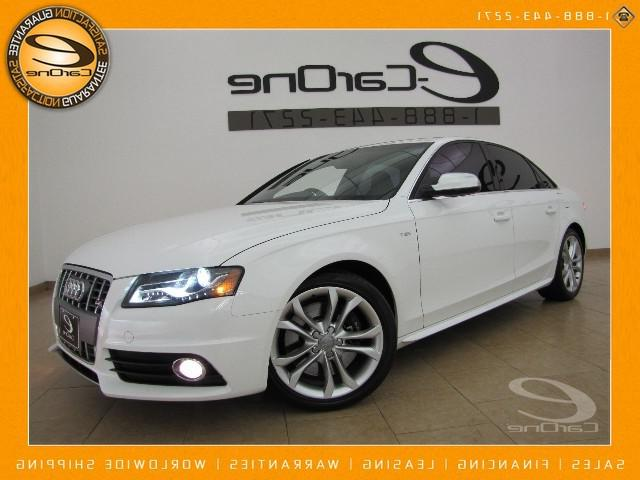Car: (37, 113, 612, 436)
